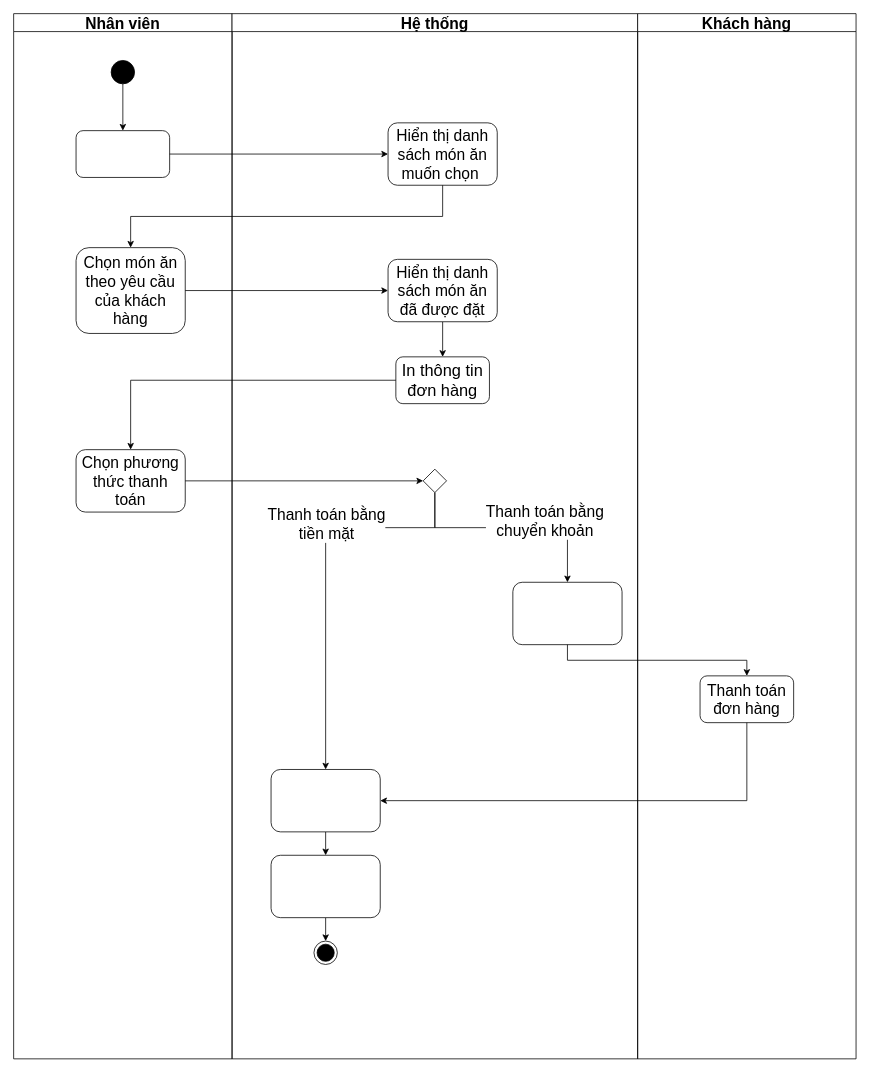
Some shapes in this 870 by 1073 pixel diagram are drawn without their labels. Each missing label, with the centre of its shape:
Chọn tạo đơn hàng: (122,153)
HIển thị mã QR của đơn hàng: (567,613)
Hiển thị thông báo thành công: (325,800)
Lưu thông tin đơn hàng: (325,886)
